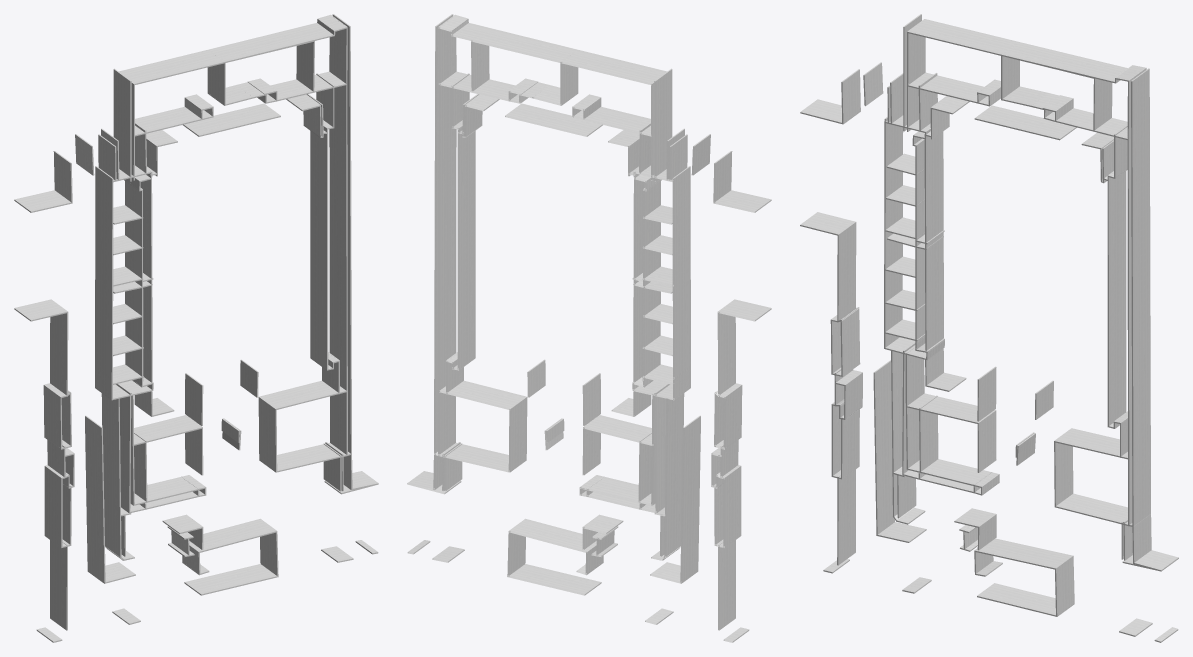
Rendered from wall_1.obj.
3 views of the same model, side by side, from view 1: azimuth 30°, elevation 25°; view 2: azimuth 150°, elevation 25°; view 3: azimuth 330°, elevation 25° (orthographic). The views are drawn at different scales.
Parts seen in each view (by area): view 1: walls; view 2: walls; view 3: walls.
Boxes of the visible parts, left/top/right/bottom form: walls: left=14, top=14, right=378, bottom=642; walls: left=407, top=14, right=771, bottom=642; walls: left=800, top=14, right=1178, bottom=642.
Bounding box in the file's own units: 29.79 × 44.58 × 2.5.
